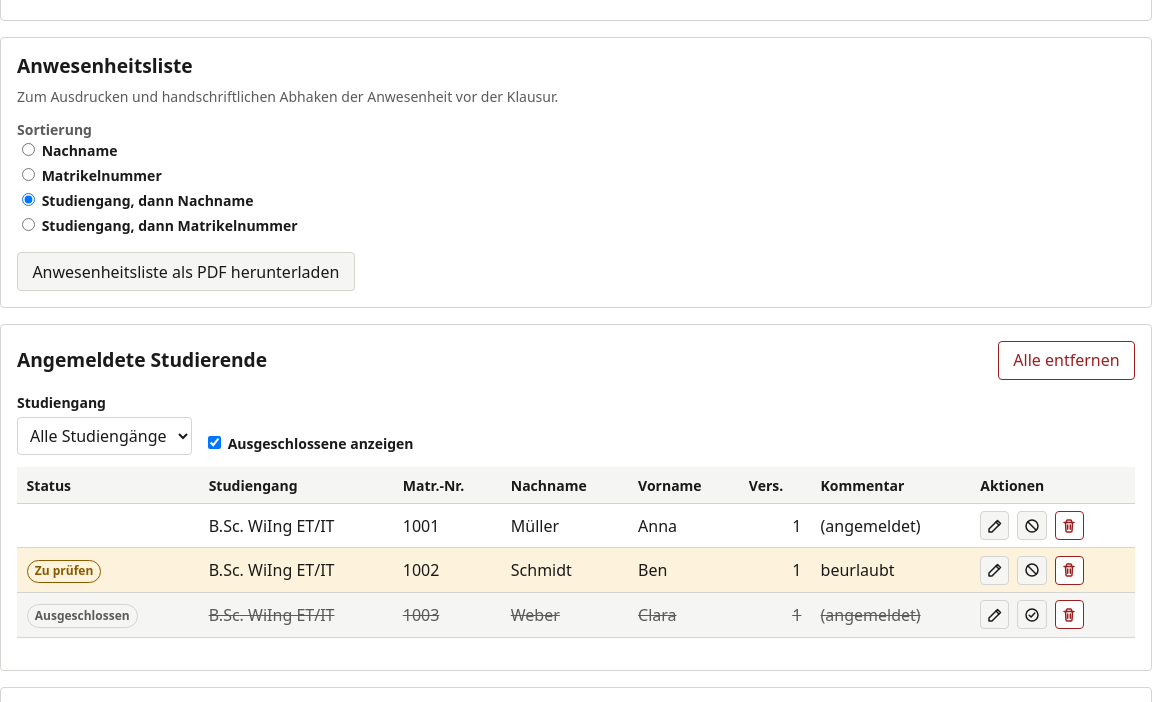
RegistrationsPage — remove all (§5.3) › shows an API error when deleting all fails
(page scrolled)
Expected: the row with test id "registration-row-1" is shown, [17, 503, 1135, 548]
Click the button "Alle entfernen" at (1066, 360), box [998, 341, 1135, 380]
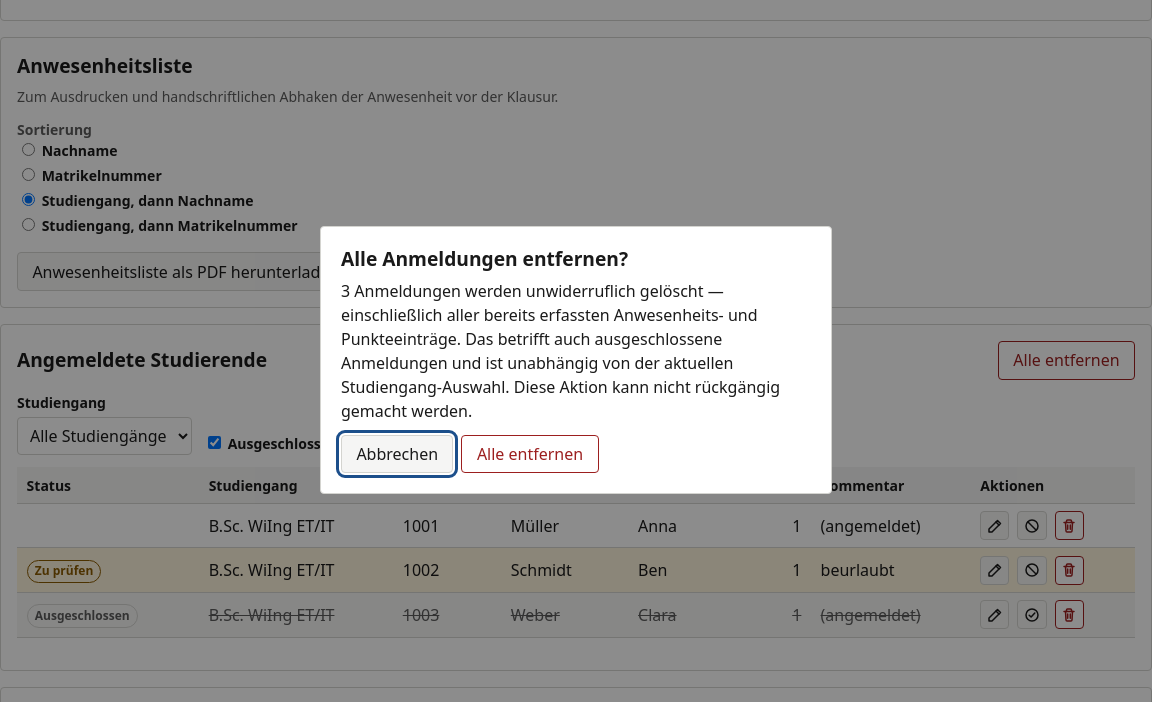
Click the button "Alle entfernen" at (530, 454), box [462, 435, 599, 473]
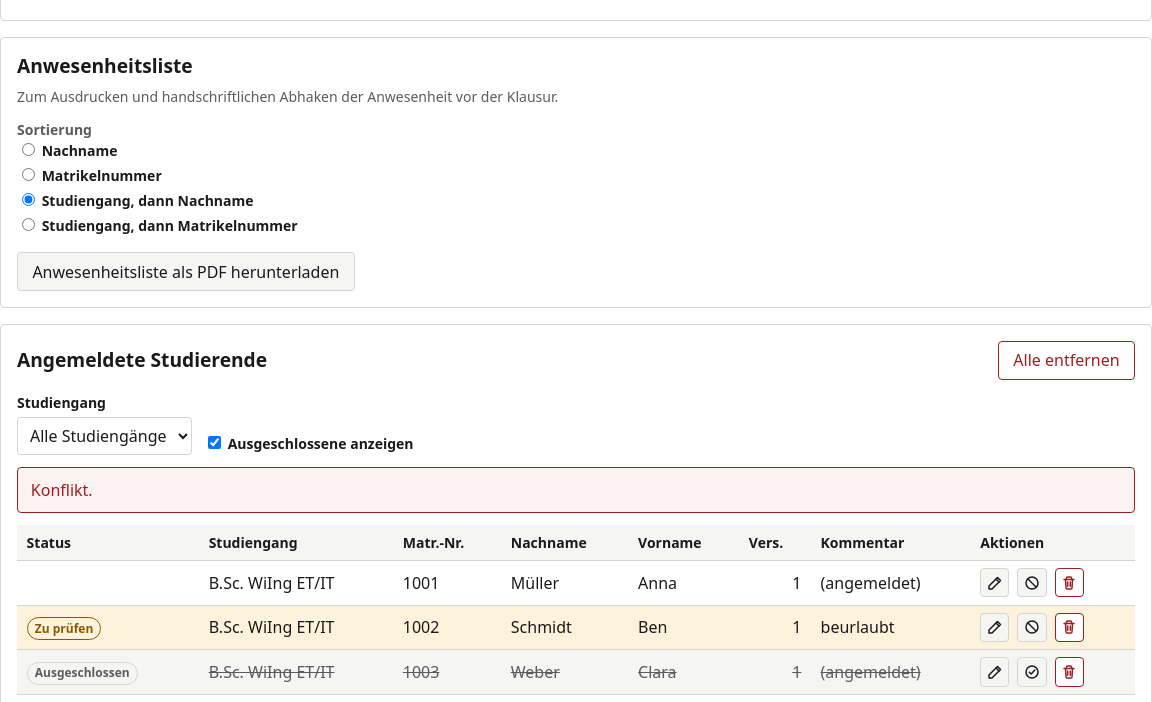
Result: the element with test id "list-errors" shows "Konflikt" at [31, 479, 93, 501]
